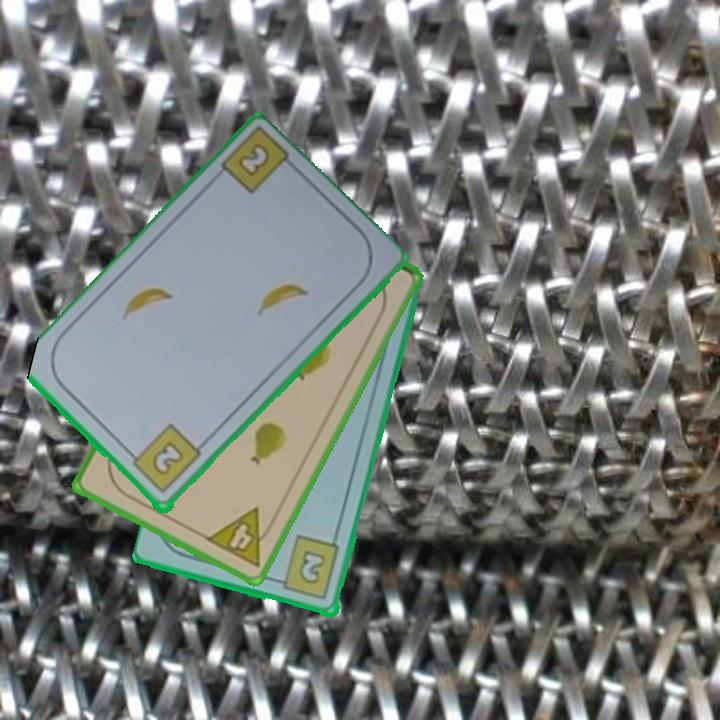2b: (124, 421, 204, 497), (271, 533, 343, 603), (233, 140, 273, 181)
4p: (202, 504, 280, 571)
